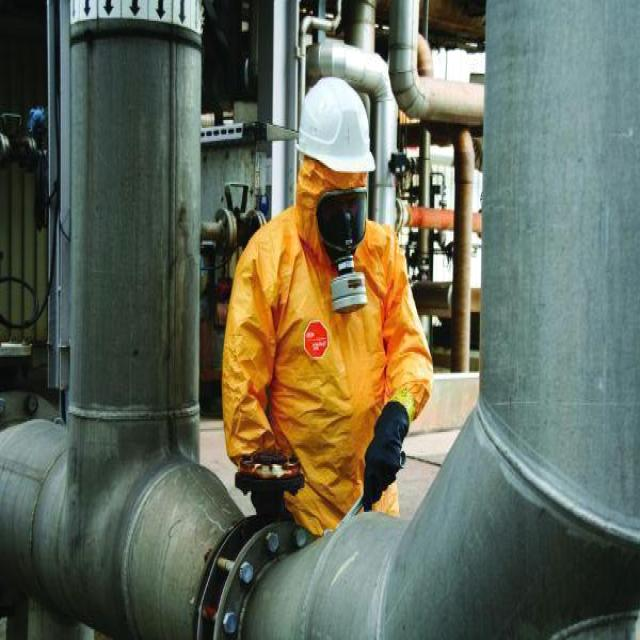face_mask: (279, 174, 376, 288)
hand_glove: (356, 390, 415, 512)
head_helmet: (293, 75, 378, 173)
person: (219, 79, 422, 526)
